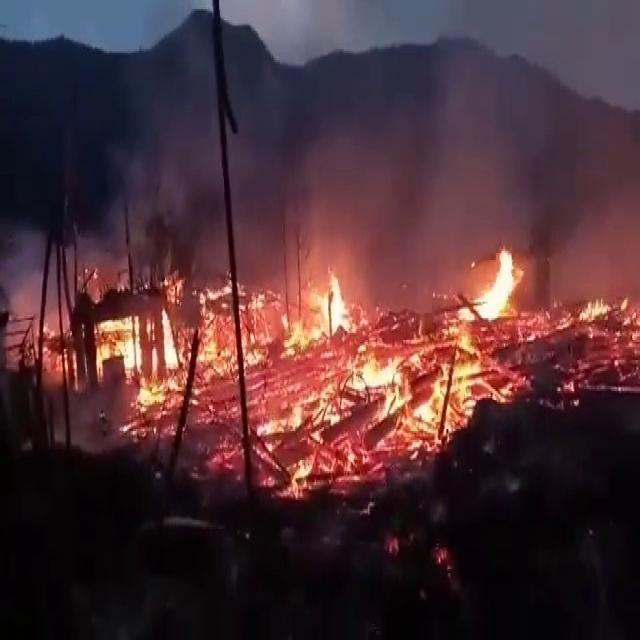Fire: (266, 300, 640, 496), (188, 311, 286, 413), (290, 267, 372, 351), (456, 249, 524, 320), (130, 375, 182, 435), (95, 318, 141, 385), (157, 311, 183, 373), (205, 271, 234, 305)
